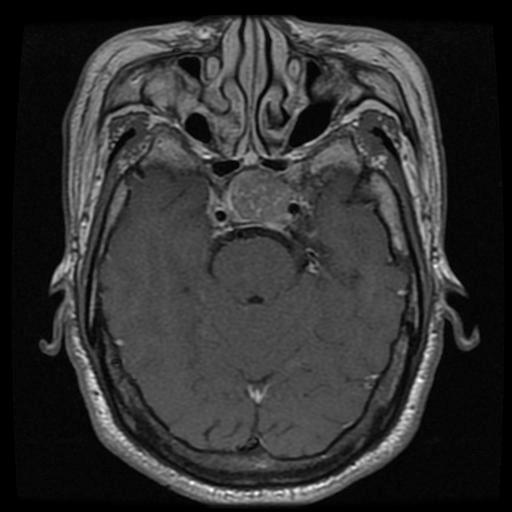Tumour-Pituitary: (194, 169, 313, 246)
